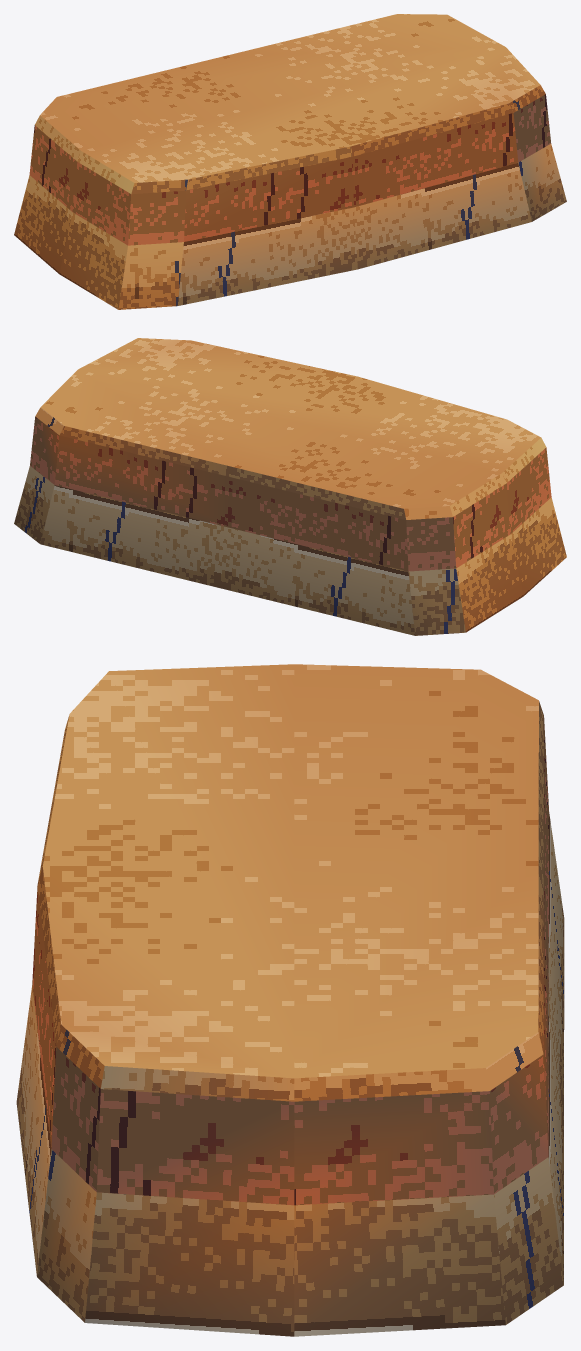
File: wland.ledge.glb
3 renders of one model, top to bottom at view 1: azimuth 30°, elevation 25°; view 2: azimuth 150°, elevation 25°; view 3: azimuth 270°, elevation 25°, orthographic. The views are drawn at different scales.
Parts seen in each view (by area): view 1: kit_ledge; view 2: kit_ledge; view 3: kit_ledge.
Boxes of the visible parts, x1=… form: kit_ledge: x1=14, y1=14, x2=566, y2=309; kit_ledge: x1=14, y1=338, x2=566, y2=635; kit_ledge: x1=16, y1=664, x2=564, y2=1336.
Bounding box in the file's own units: 8.3 × 2 × 4.2.
4 materials, 4 textured.
